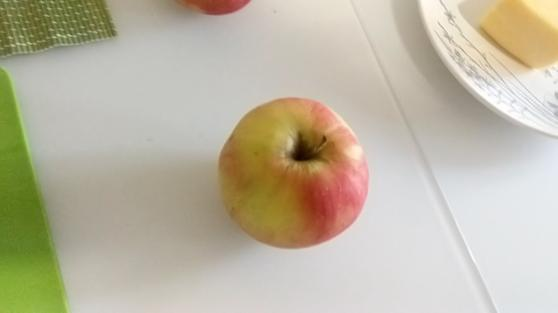apple: (218, 97, 369, 252)
